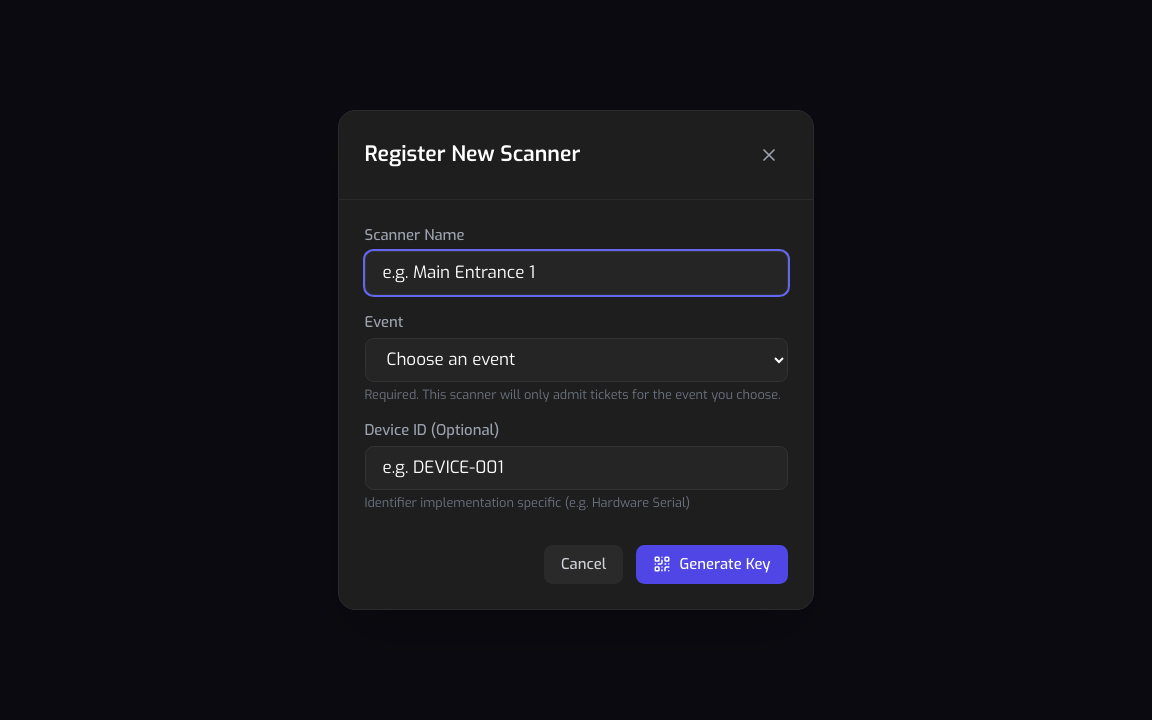
Test case: RegisterScannerModal event binding › registers a scanner bound to the selected event
Type "North gate" into the field labelled "Scanner Name".
click(576, 273); type("North gate")  # box [364, 251, 788, 295]
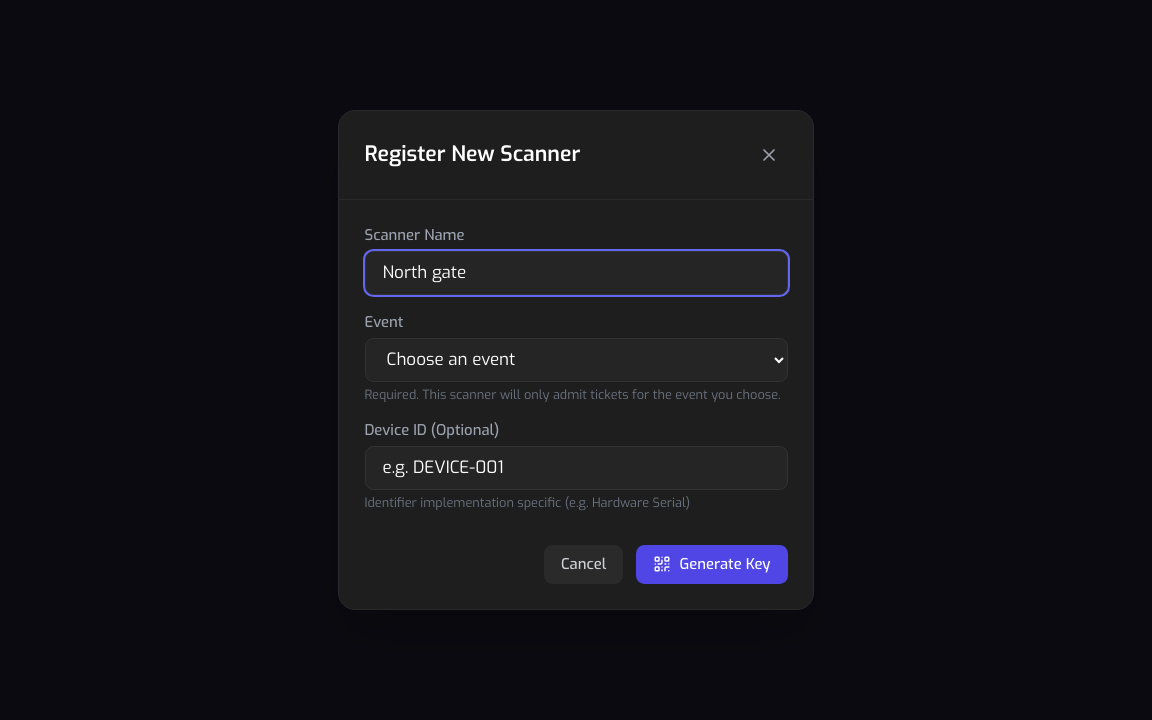
Select "Harbor Night" in the dropdown labelled "Event" at (576, 360), box [364, 338, 788, 382]
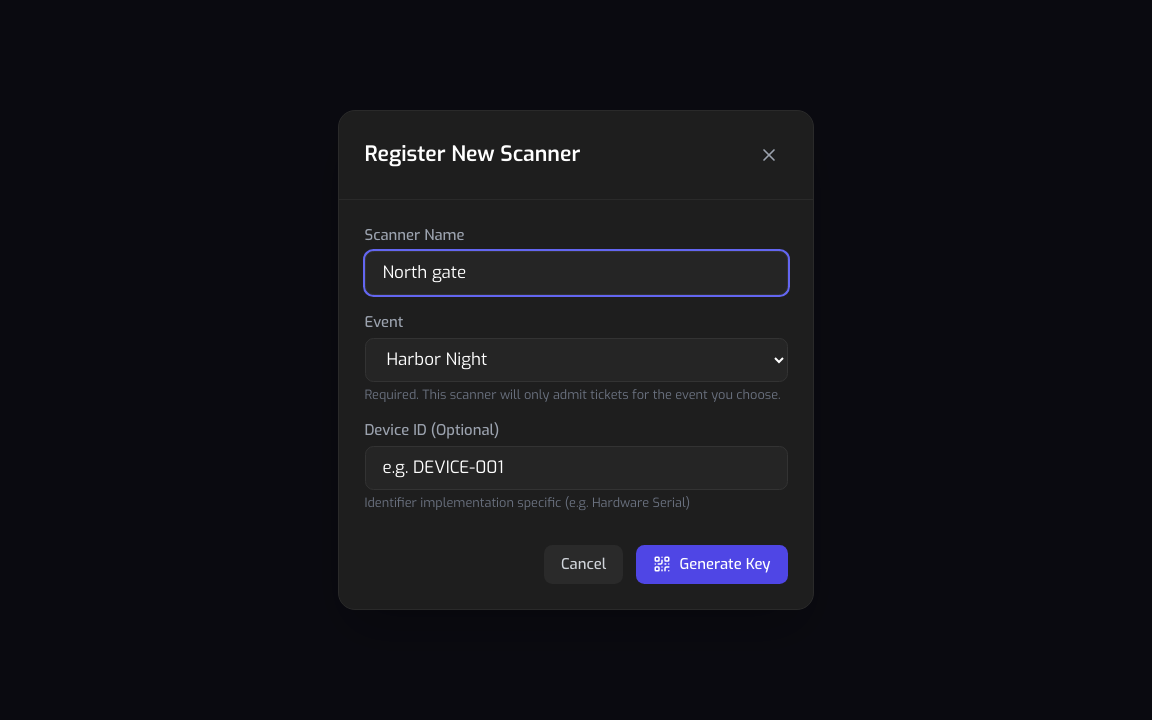
Click the button "Generate Key".
click(712, 565)  # box [636, 545, 788, 584]
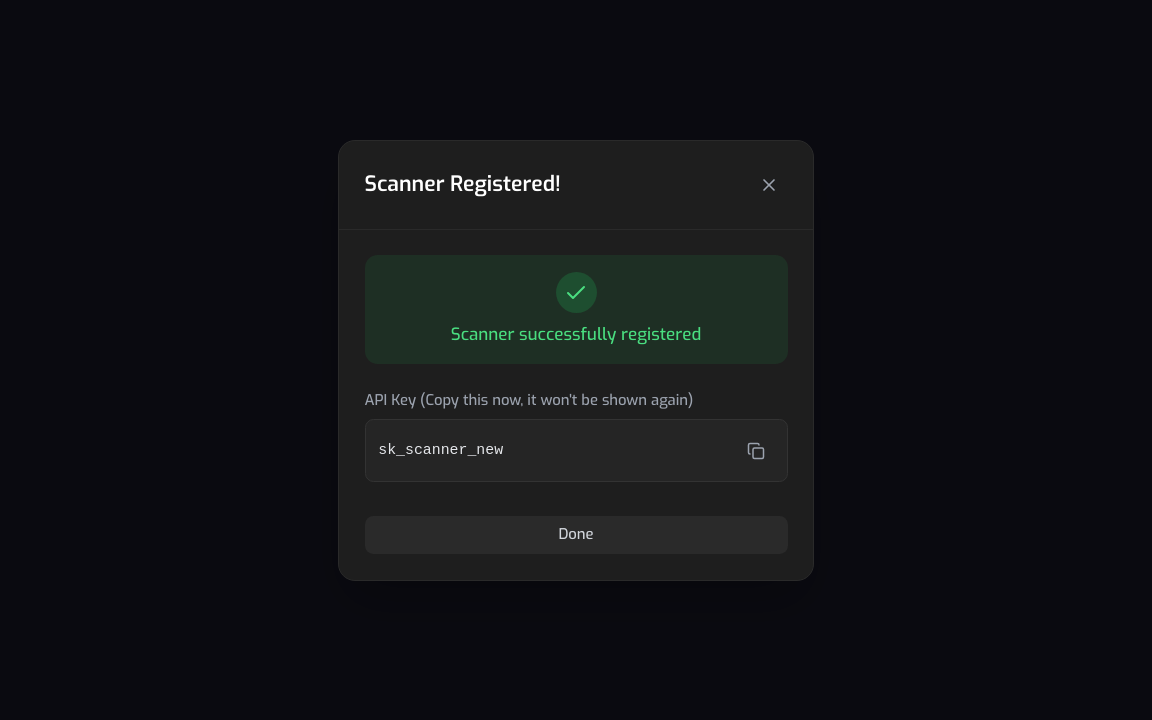
Check: the text "sk_scanner_new" is shown, box [378, 442, 503, 458]
